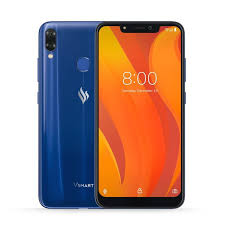vsmart: (92, 19, 186, 210), (38, 21, 100, 210)
